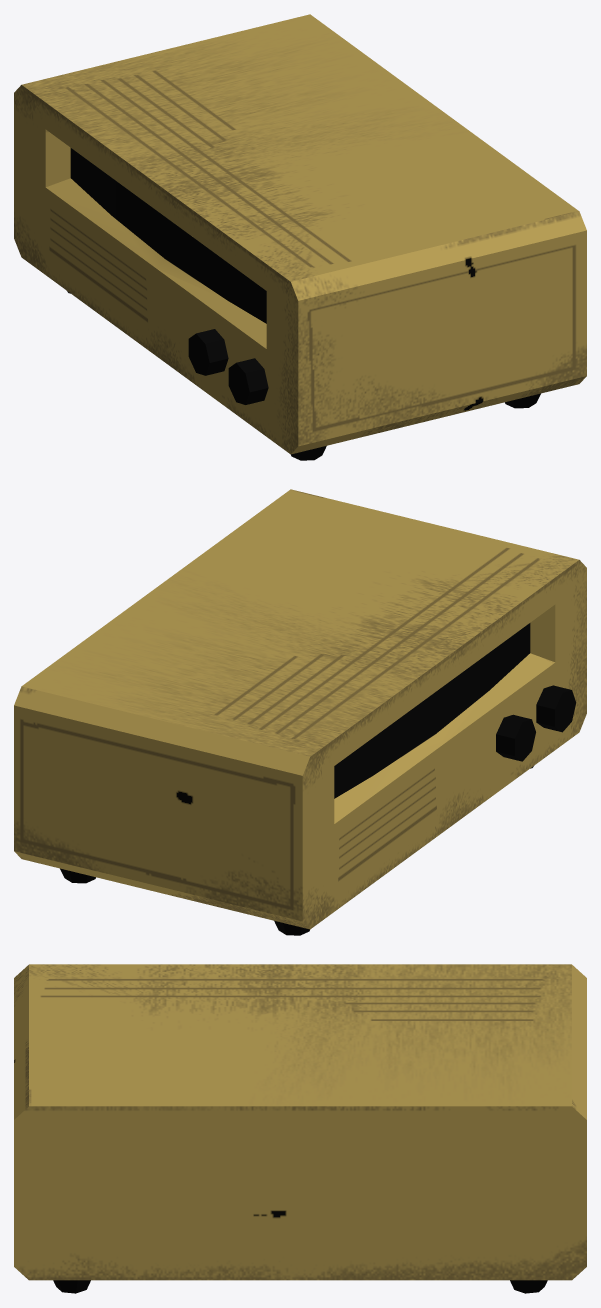
Rendered from Env_Power_Supply.fbx.
The picture shows the model from 3 angles, top to bottom: view 1: azimuth 30°, elevation 25°; view 2: azimuth 150°, elevation 25°; view 3: azimuth 270°, elevation 25°; orthographic projection.
Parts seen in each view (by area): view 1: Power_Supply; view 2: Power_Supply; view 3: Power_Supply.
Boxes of the visible parts, x1,y1,x2,y2 form: Power_Supply: [14, 14, 586, 460]; Power_Supply: [14, 489, 586, 935]; Power_Supply: [14, 964, 586, 1293].
Size of the model in its own units: 28.82 by 17.67 by 46.13.
2 materials, 1 textured.
